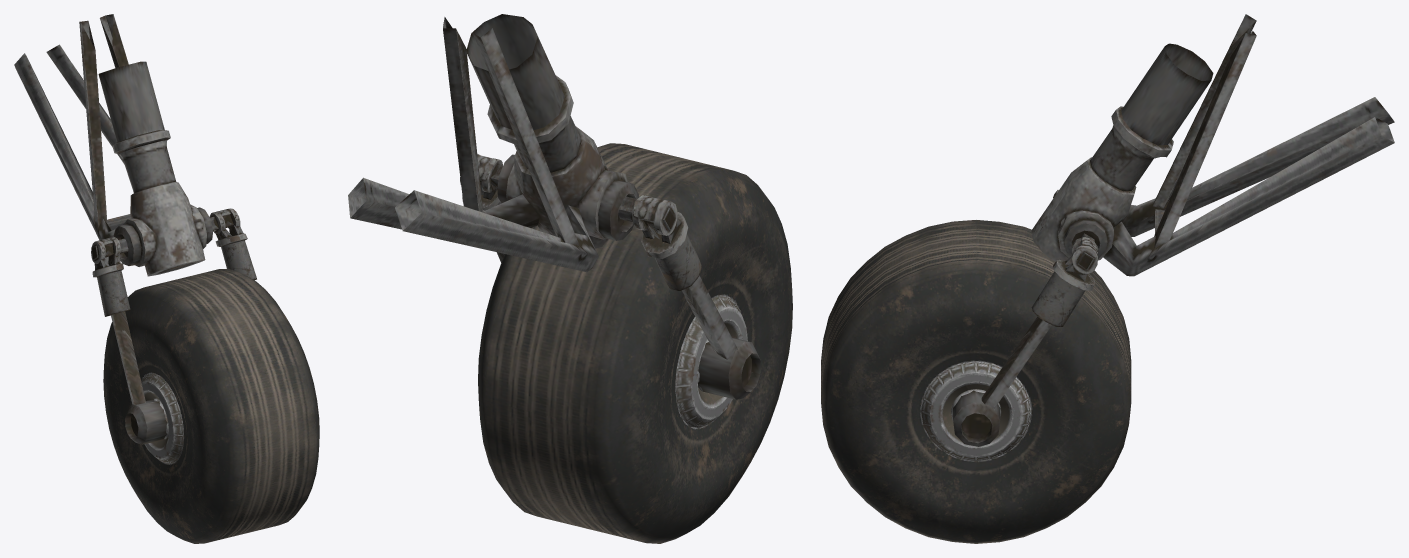
Rendered from plane_wreckage_back_undercarriage.dae.
The picture shows the model from 3 angles, left to right: view 1: azimuth 30°, elevation 25°; view 2: azimuth 150°, elevation 25°; view 3: azimuth 270°, elevation 25°; orthographic projection. The views are drawn at different scales.
Parts seen in each view (by area): view 1: plane_wreckage_back_undercarriage; view 2: plane_wreckage_back_undercarriage; view 3: plane_wreckage_back_undercarriage.
Boxes of the visible parts, x1,y1,x2,y2 form: plane_wreckage_back_undercarriage: [14, 14, 319, 543]; plane_wreckage_back_undercarriage: [348, 14, 792, 543]; plane_wreckage_back_undercarriage: [821, 14, 1394, 543].
Size of the model in its own units: 55.42 by 140 by 146.
